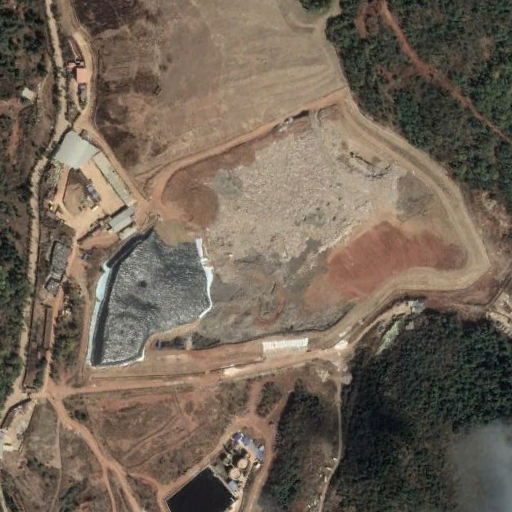lf: (89, 115, 484, 374)
